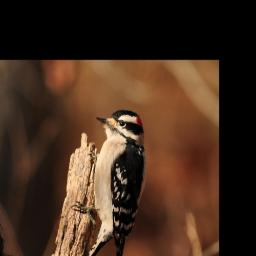Woodpecker: (70, 105, 147, 256)
